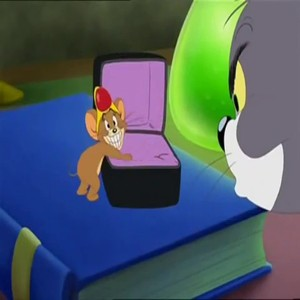Jerry: (75, 105, 128, 208)
